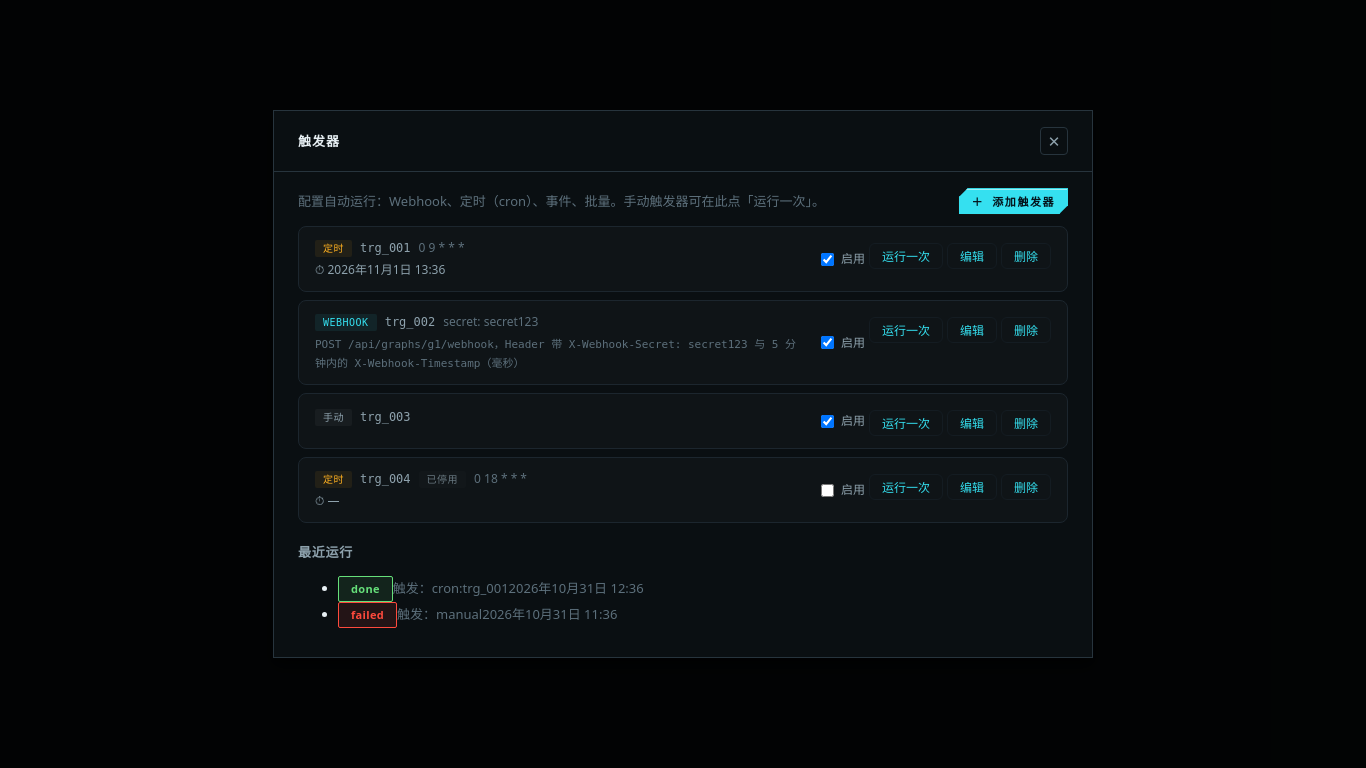
Test: TriggersPanel › 触发器操作 › 点击'添加触发器'显示编辑表单
The width and height of the screenshot is (1366, 768).
Click the button "＋ 添加触发器".
click(1013, 201)  # box [959,188,1068,214]
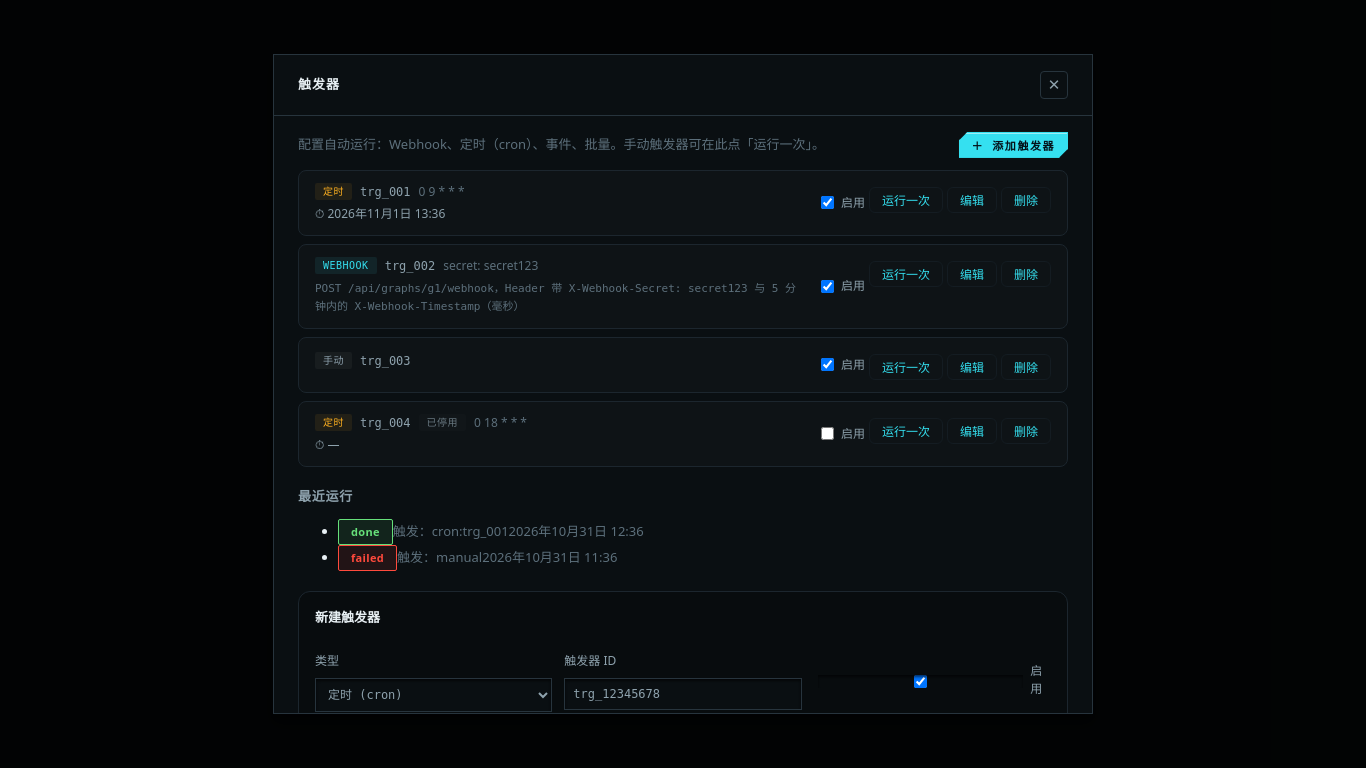
Check: the heading "新建触发器" is shown, box [315,608,380,626]
